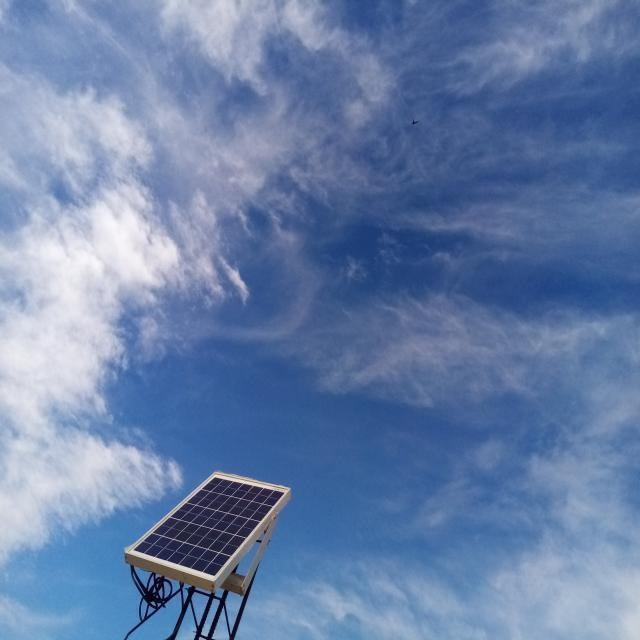Normal Solar Panel: (125, 471, 290, 581)
